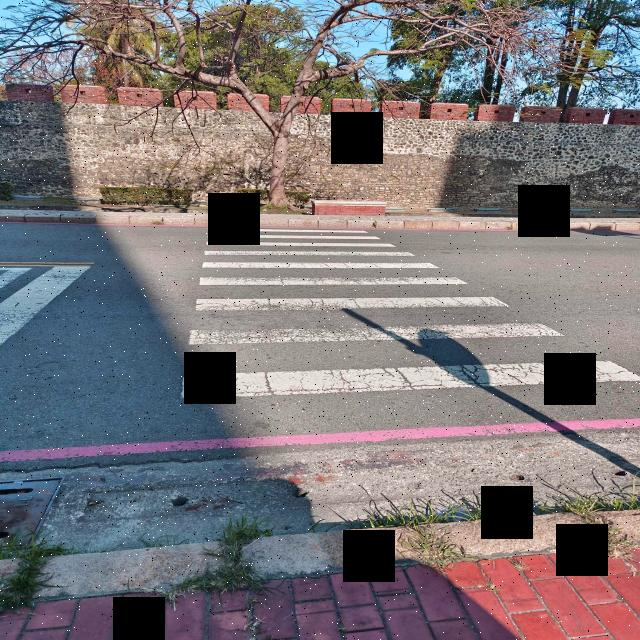zebra crossing: (179, 219, 631, 404)
